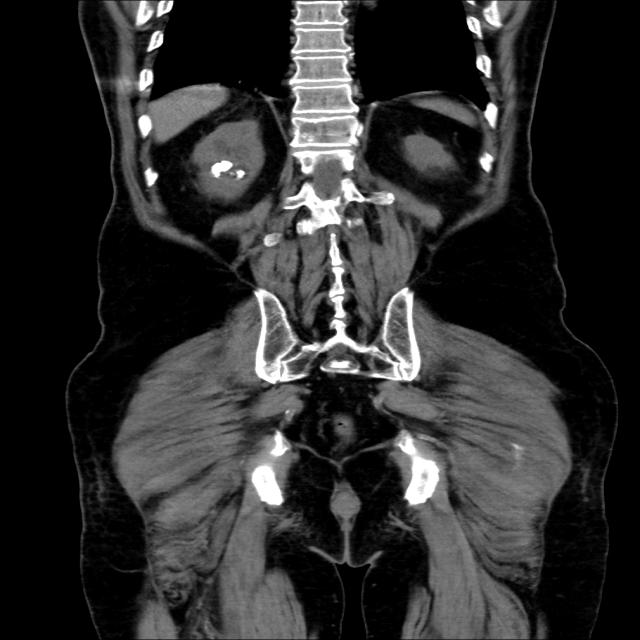kidneystone: (210, 160, 245, 179)
